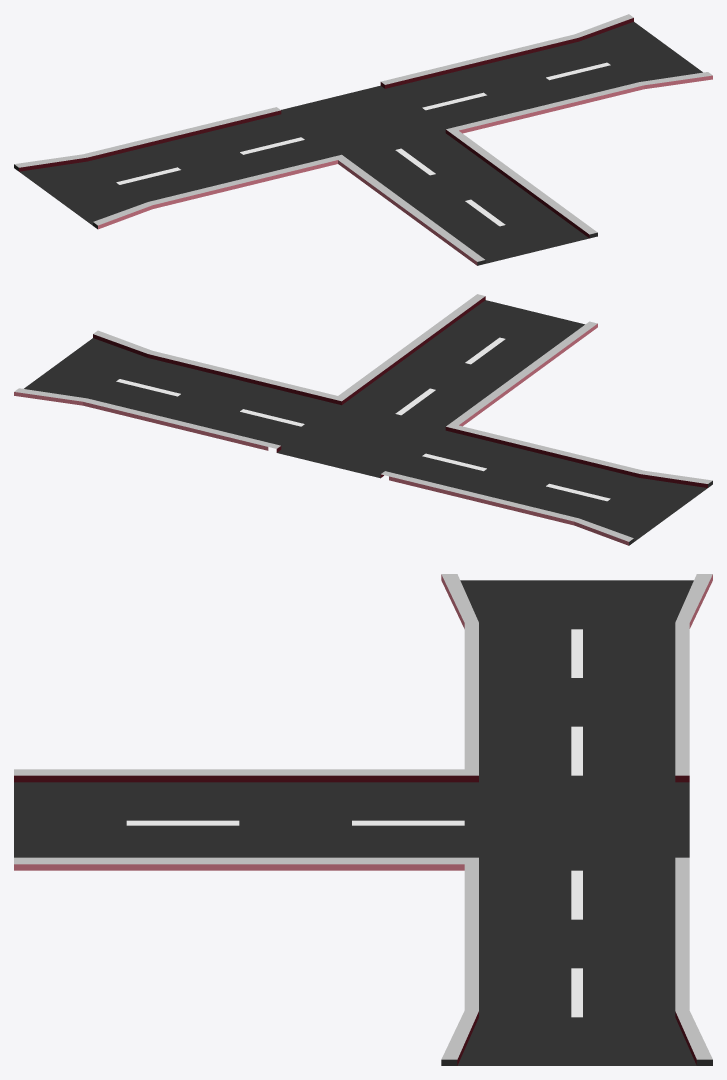
The model's file is CrossRoad.fbx.
3 renders of one model, top to bottom at view 1: azimuth 30°, elevation 25°; view 2: azimuth 150°, elevation 25°; view 3: azimuth 270°, elevation 25°, orthographic. The views are drawn at different scales.
Parts seen in each view (by area): view 1: Plane; view 2: Plane; view 3: Plane.
Part boxes in pixels (x1,y1,x2,y2): Plane: (14, 14, 712, 265); Plane: (14, 294, 712, 545); Plane: (14, 574, 712, 1065).
Size of the model in its own units: 1020 by 6.26 by 621.
Materials: 1 (1 with a texture image).
